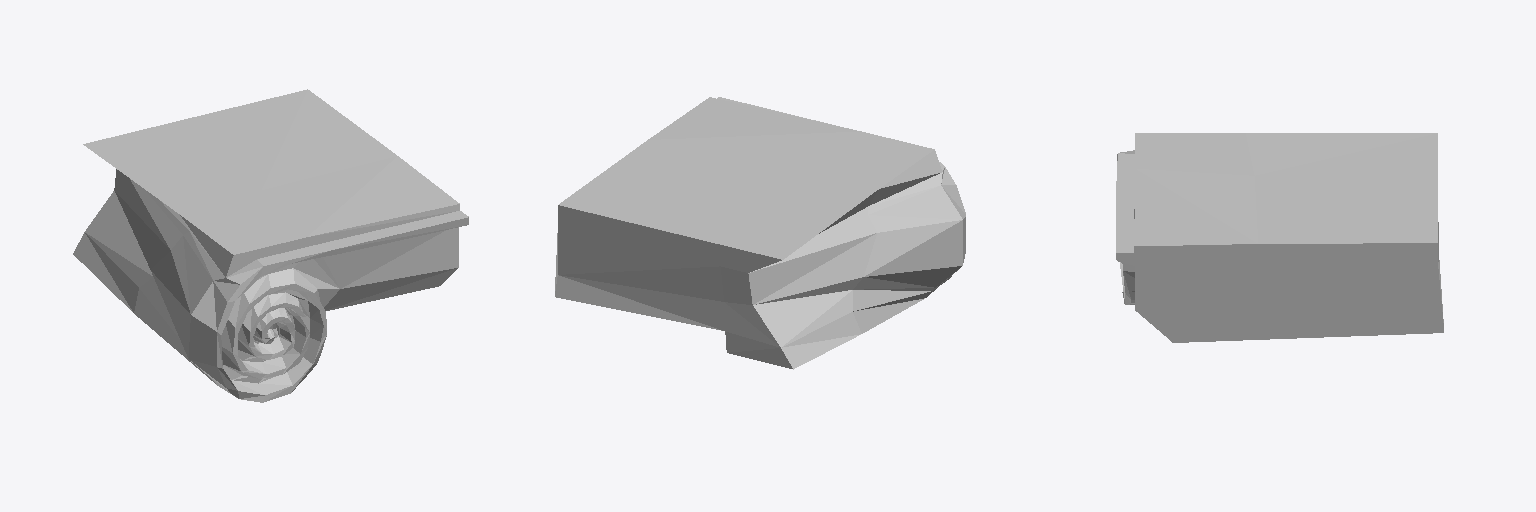
File: ionic_capital.obj
3 renders of one model, left to right at view 1: azimuth 30°, elevation 25°; view 2: azimuth 150°, elevation 25°; view 3: azimuth 270°, elevation 25°, orthographic.
Visible parts, largest first — view 1: cube2; view 2: cube2; view 3: cube2.
Part boxes in pixels (bbox=[...]): cube2: bbox=[73, 89, 468, 402]; cube2: bbox=[555, 97, 965, 369]; cube2: bbox=[1116, 133, 1443, 342].
Bounding box in the file's own units: 1.79 × 1.01 × 1.95.